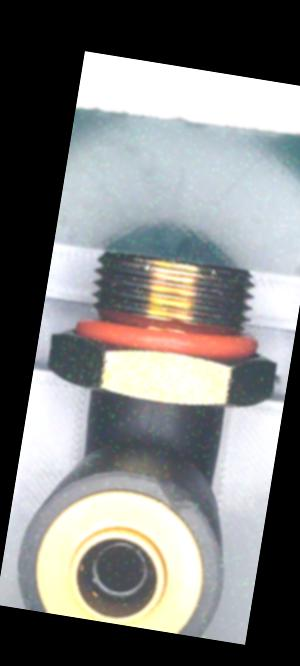bump: (155, 480, 200, 513)
joint line: (138, 397, 160, 449)
